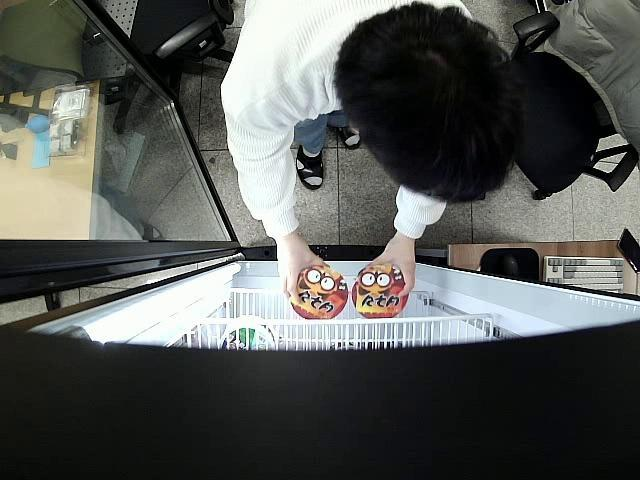05_nuguri_L: (286, 262, 348, 320), (352, 266, 408, 319)
